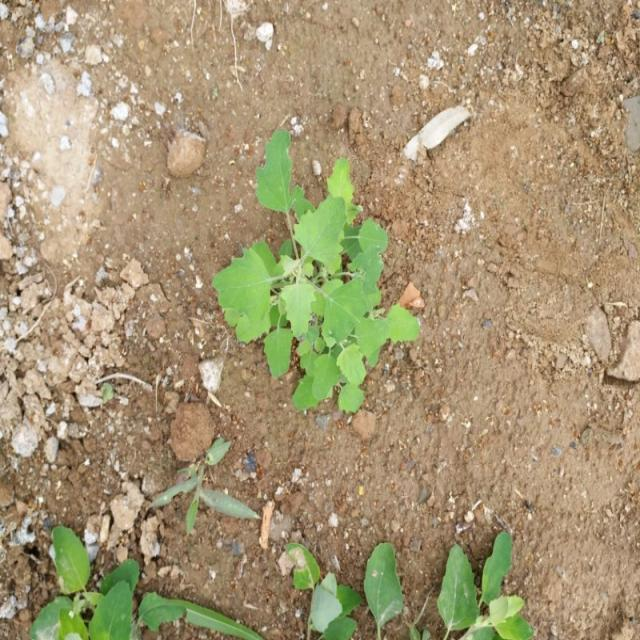ca: (211, 131, 389, 411)
